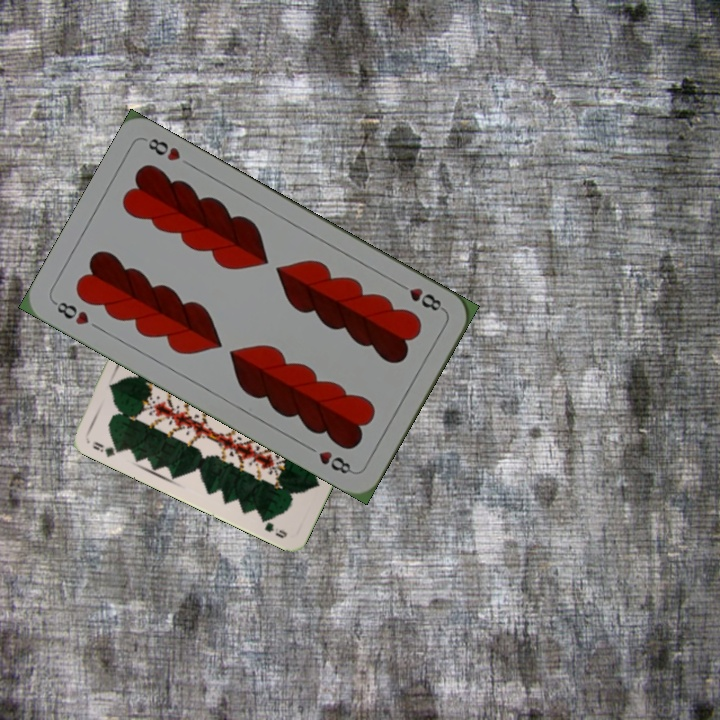G9: (89, 437, 123, 460)
H8: (393, 278, 447, 314), (49, 297, 92, 328)
